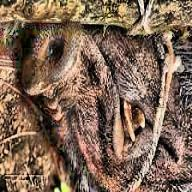boar: (25, 0, 192, 192)
